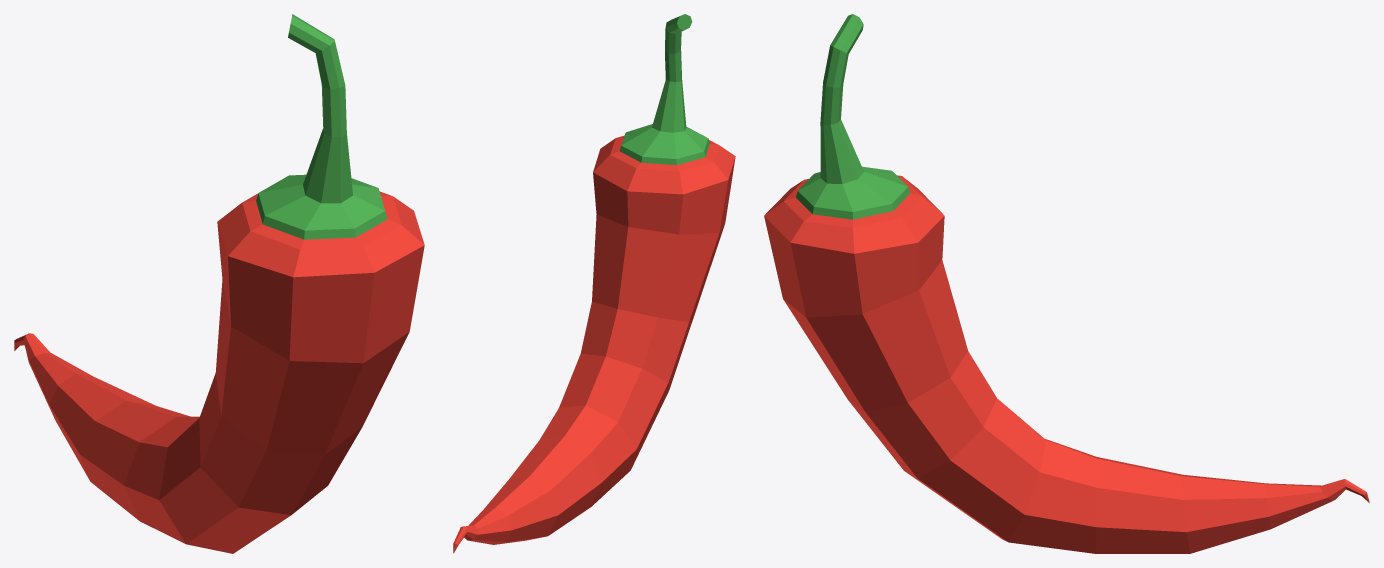
Rendered from chili.obj.
3 views of the same model, side by side, from view 1: azimuth 30°, elevation 25°; view 2: azimuth 150°, elevation 25°; view 3: azimuth 270°, elevation 25° (orthographic). The views are drawn at different scales.
Visible parts, largest first — view 1: Circle.003_Circle.012; view 2: Circle.003_Circle.012; view 3: Circle.003_Circle.012.
Boxes of the visible parts, x1,y1,x2,y2 form: Circle.003_Circle.012: [14, 14, 424, 553]; Circle.003_Circle.012: [453, 14, 735, 553]; Circle.003_Circle.012: [764, 14, 1369, 553].
Size of the model in its own units: 3.51 by 11.27 by 11.76.
